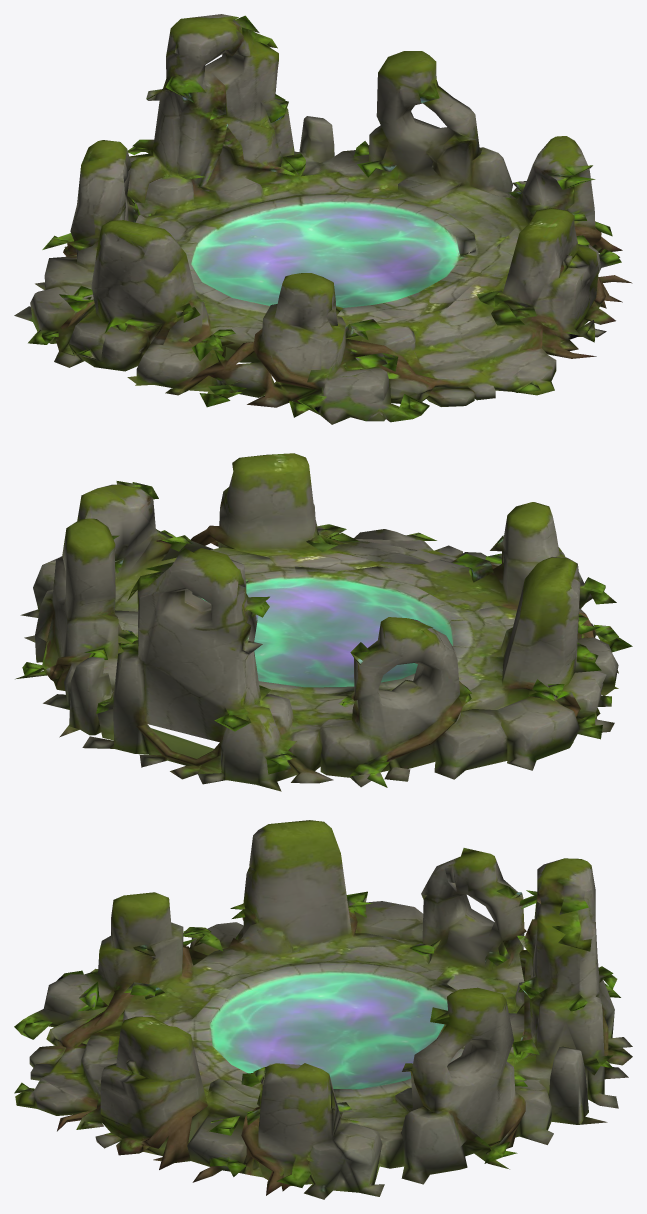
The model's file is warp.fbx.
3 renders of one model, top to bottom at view 1: azimuth 30°, elevation 25°; view 2: azimuth 150°, elevation 25°; view 3: azimuth 270°, elevation 25°, orthographic. The views are drawn at different scales.
Parts seen in each view (by area): view 1: warp; view 2: warp; view 3: warp.
Part boxes in pixels (x1,y1,x2,y2): warp: (14, 14, 632, 424); warp: (15, 453, 632, 791); warp: (14, 820, 632, 1199).
Size of the model in its own units: 3 by 1 by 2.81.
1 material, 1 textured.
